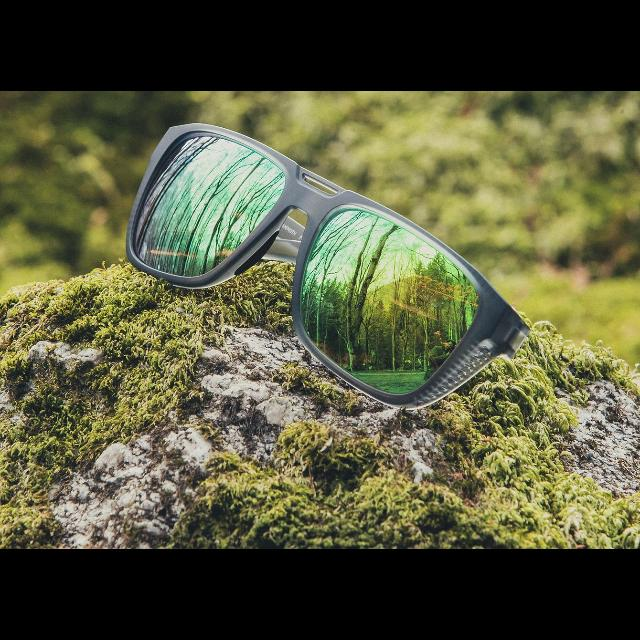Sunglasses: (122, 110, 534, 412)
